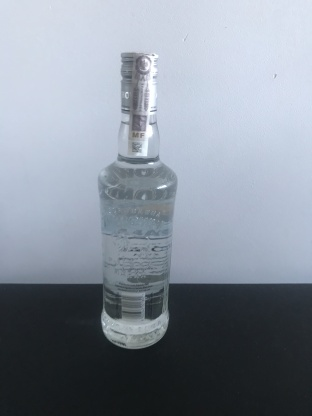nakretka: (118, 48, 160, 117)
